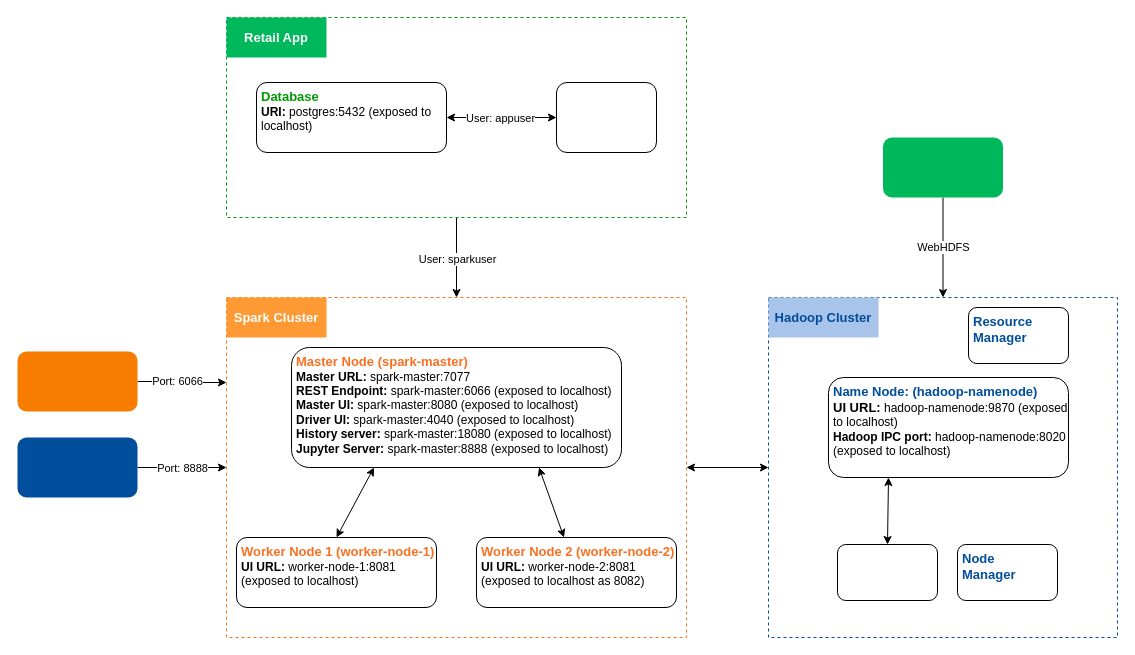
Some shapes in this 1135 by 655 pixel diagram are drawn without their labels. Each missing label, with the box of its shape:
App: (556, 82, 656, 152)
Dashboard: (882, 137, 1002, 197)
Data Node 1: (836, 544, 938, 600)
Development Notebook: (17, 437, 137, 497)
Orchestrator: (17, 351, 137, 411)
